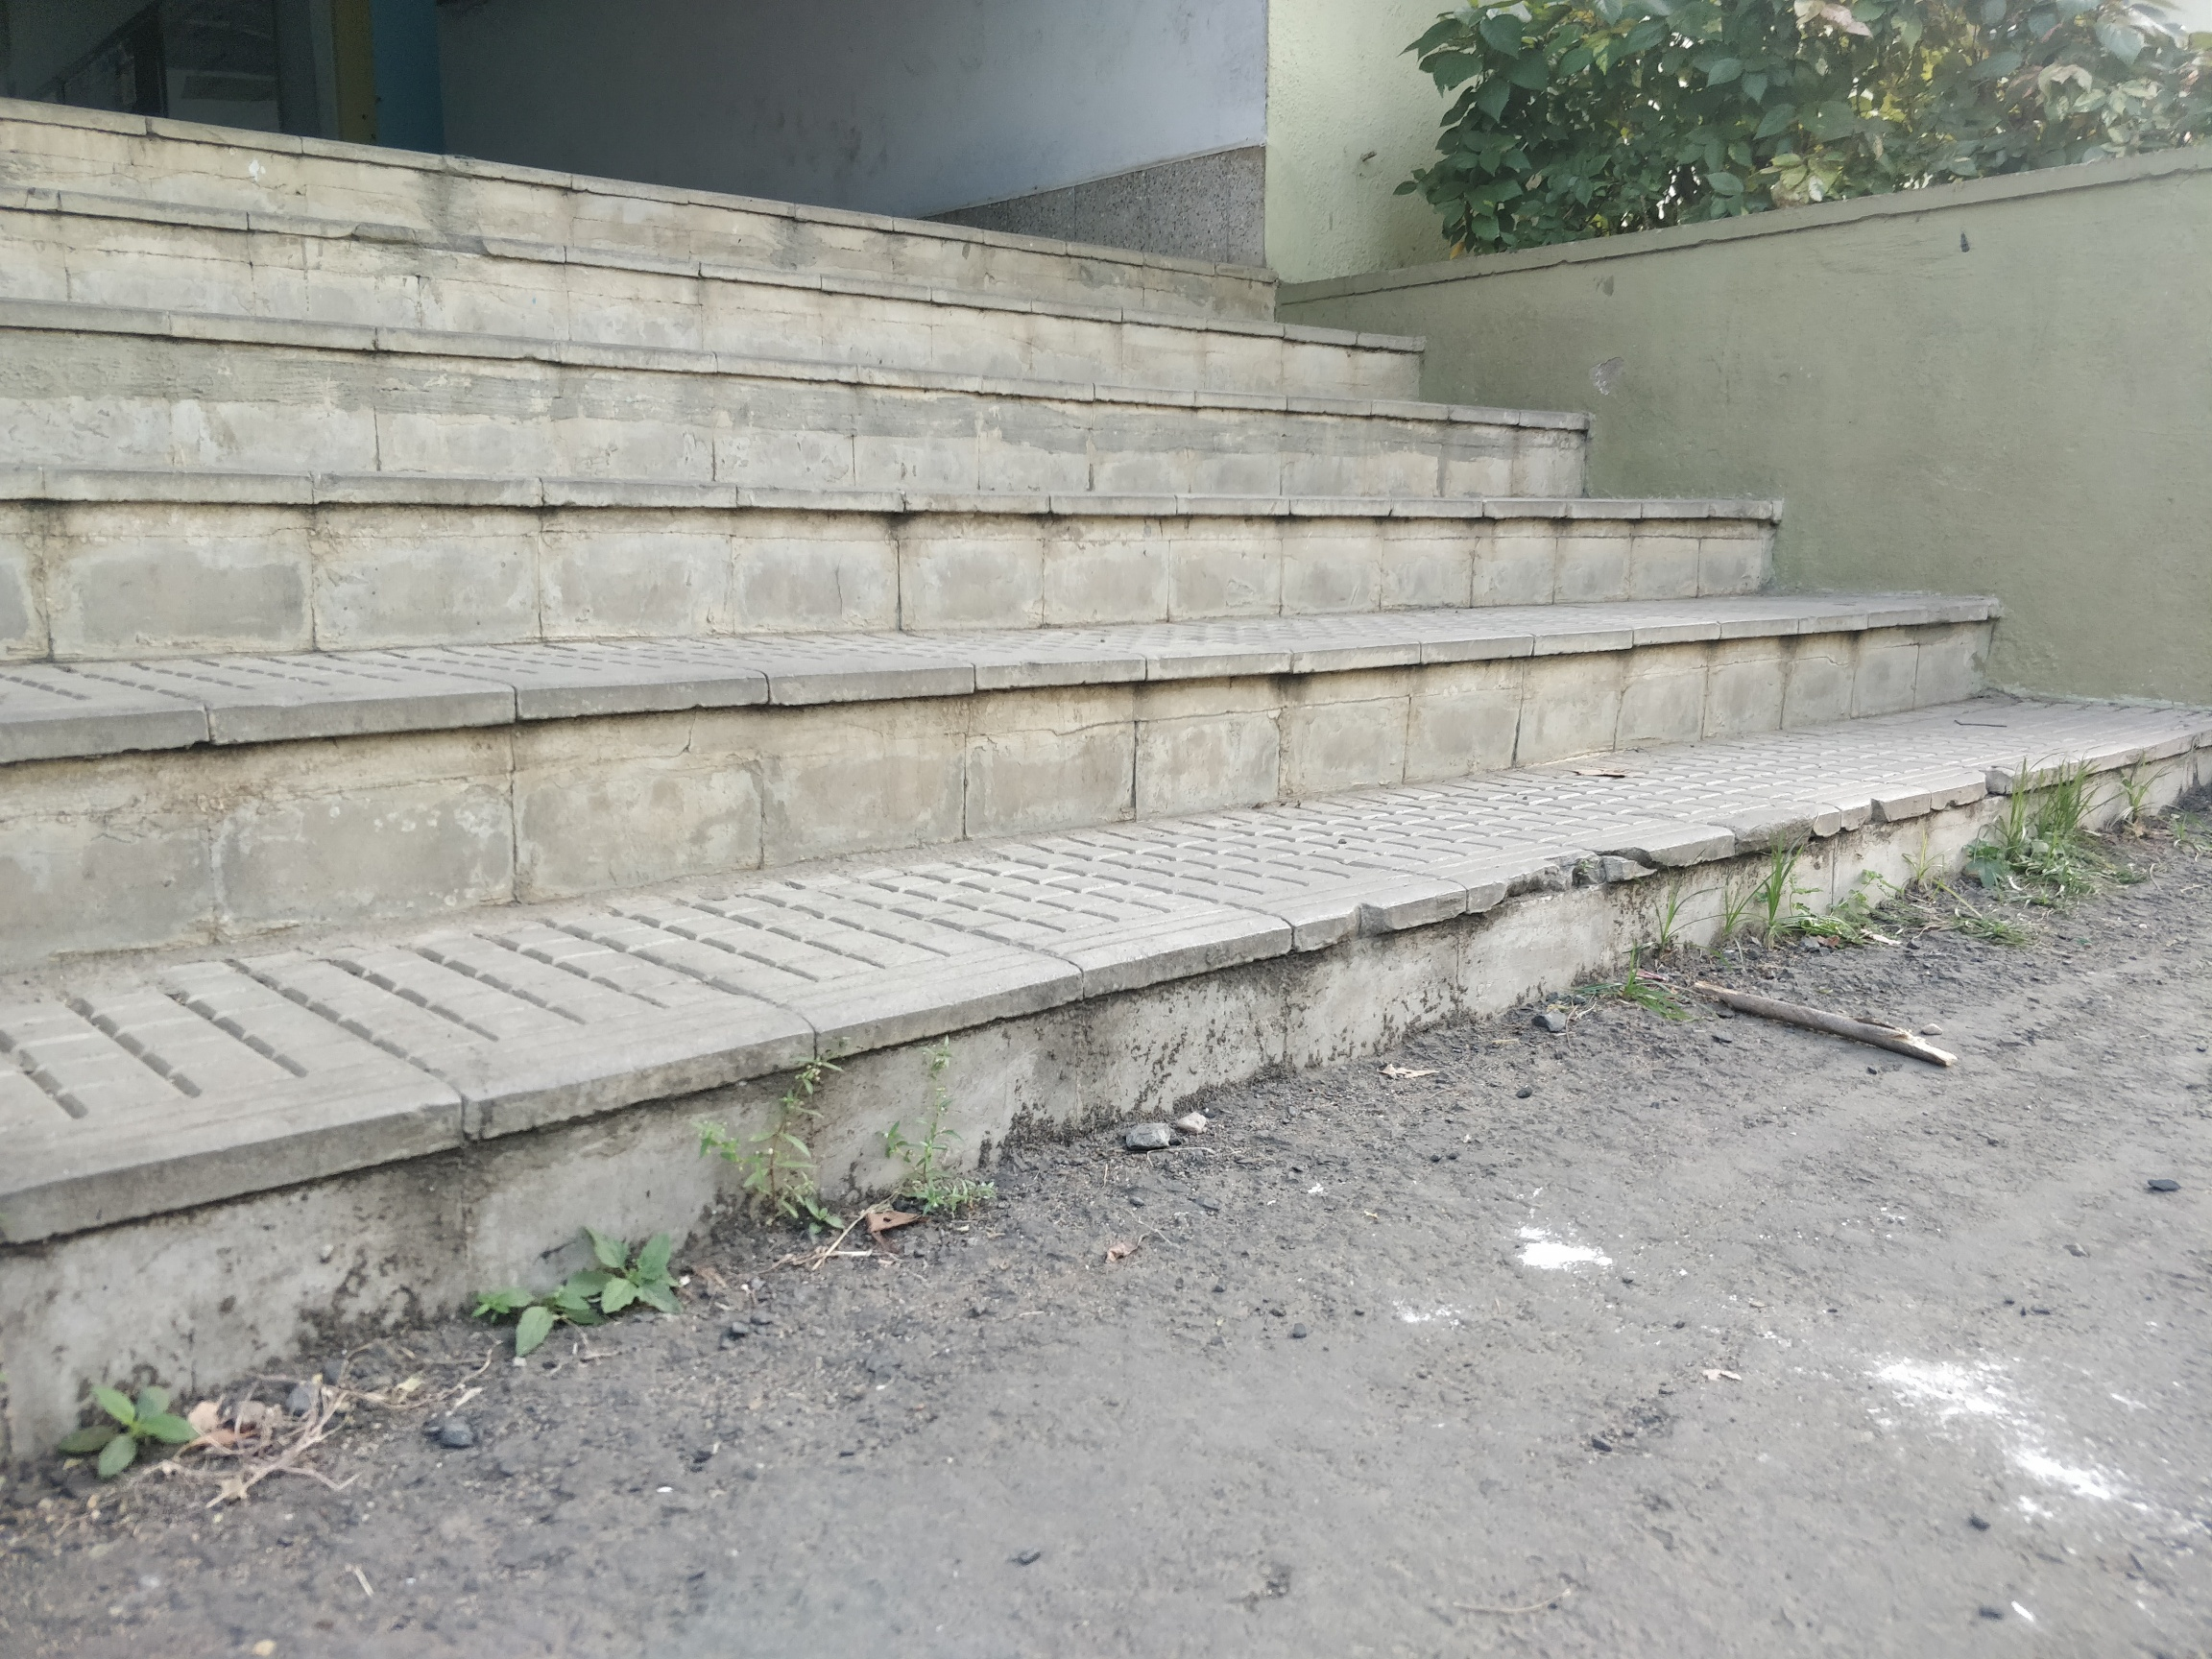stairs_up: (5, 77, 2134, 890)
